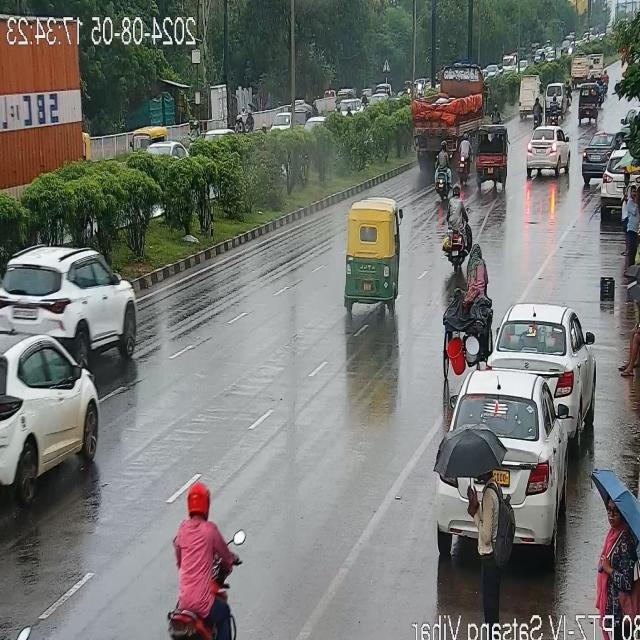2-wheelers: (175, 490, 230, 640), (448, 186, 468, 266), (436, 144, 452, 196)
auto: (344, 208, 397, 308), (446, 242, 488, 366), (481, 131, 504, 189), (122, 127, 164, 155)
car: (443, 386, 549, 558), (0, 346, 94, 500), (0, 256, 136, 362), (483, 308, 579, 410), (598, 155, 634, 219), (579, 134, 611, 188), (529, 130, 565, 177)
pedestrian: (478, 461, 508, 640), (602, 505, 640, 640), (616, 184, 640, 267), (620, 282, 640, 369)
truck: (0, 19, 88, 189), (422, 73, 488, 154)
